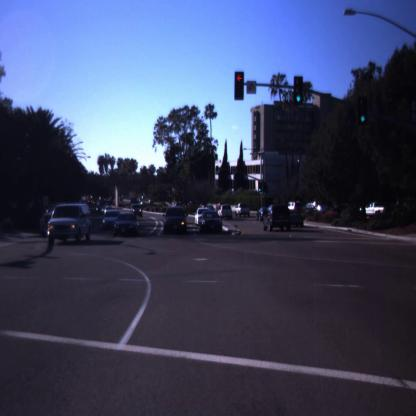trafficlight: (356, 92, 370, 127), (232, 69, 246, 103), (292, 74, 306, 108)
